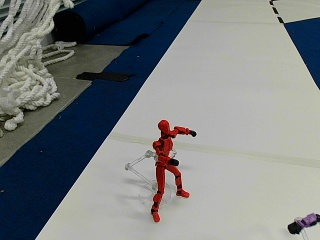pedestrian: (150, 118, 195, 218)
